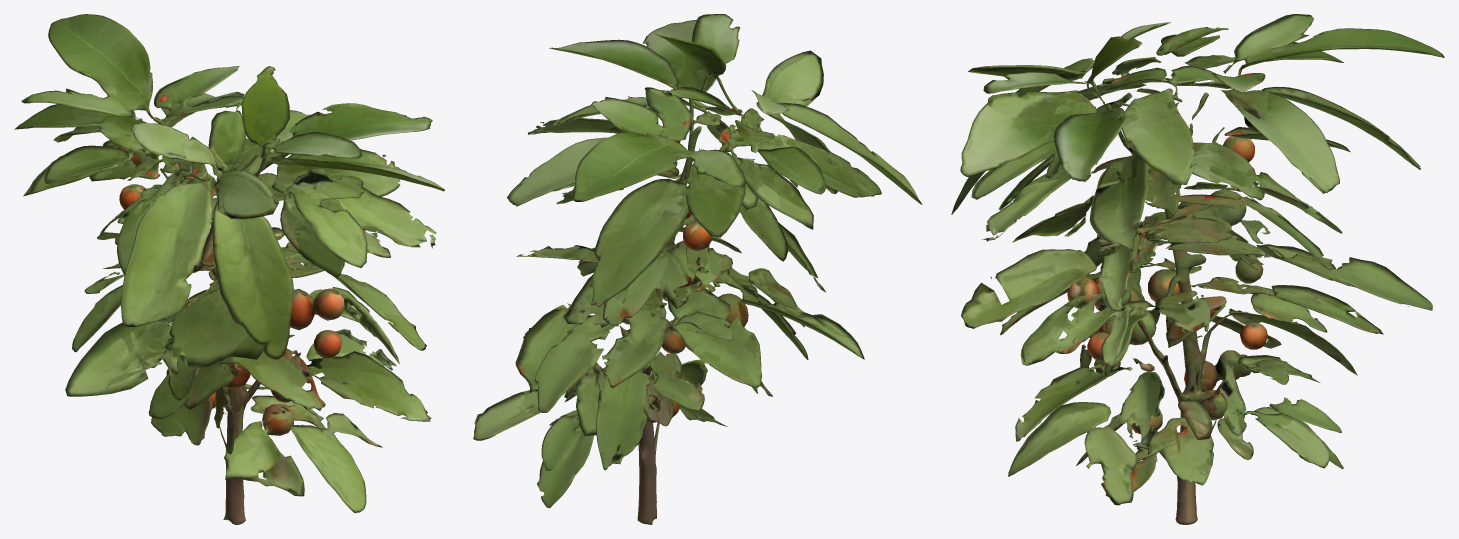
The model's file is Ashwagandha.glb.
The picture shows the model from 3 angles, left to right: view 1: azimuth 30°, elevation 25°; view 2: azimuth 150°, elevation 25°; view 3: azimuth 270°, elevation 25°; orthographic projection. The views are drawn at different scales.
Size of the model in its own units: 1.53 by 2 by 1.85.
1 material, 1 textured.
